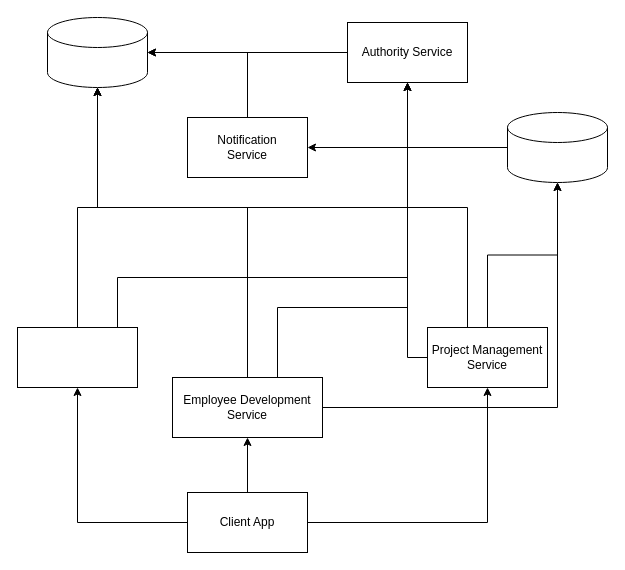
The diagram is 625 pixels wide and 570 high, and some of its shapes have lost their labels. The shapes that lost their labels are listed below. From the top down, each one's box as (x1, y1, x2, y2) in pixels, then its label:
(46, 16, 148, 88): MongoDB
(506, 112, 608, 182): MassTransit
(16, 326, 138, 388): File Service
